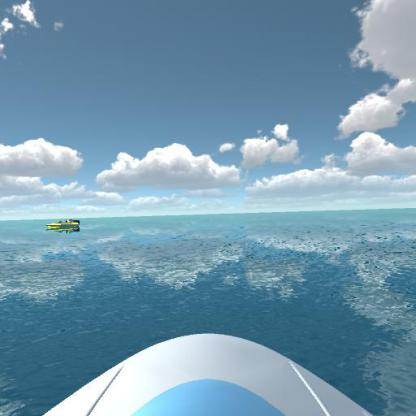usv2: (44, 214, 85, 236)
